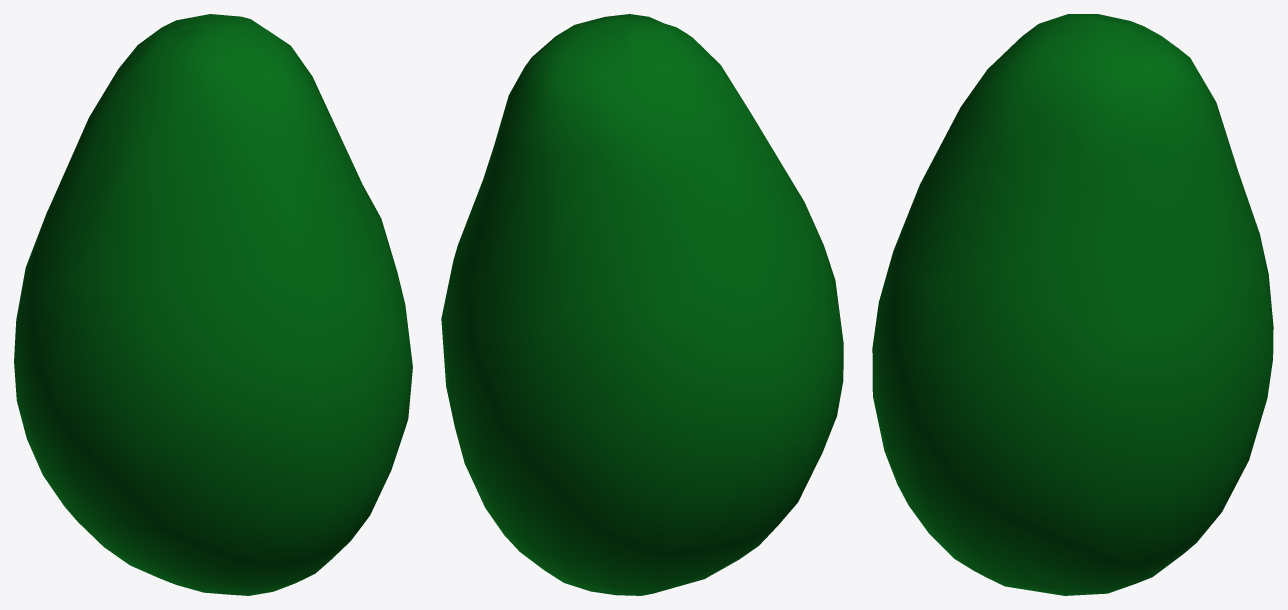
File: авокадо.fbx
The picture shows the model from 3 angles, left to right: view 1: azimuth 30°, elevation 25°; view 2: azimuth 150°, elevation 25°; view 3: azimuth 270°, elevation 25°; orthographic projection. The views are drawn at different scales.
Parts seen in each view (by area): view 1: Sub Avocado LP; view 2: Sub Avocado LP; view 3: Sub Avocado LP.
Part boxes in pixels (x1,y1,x2,y2): Sub Avocado LP: [14, 14, 412, 595]; Sub Avocado LP: [441, 14, 843, 595]; Sub Avocado LP: [872, 14, 1273, 595].
Bounding box in the file's own units: 253 × 380 × 249.
